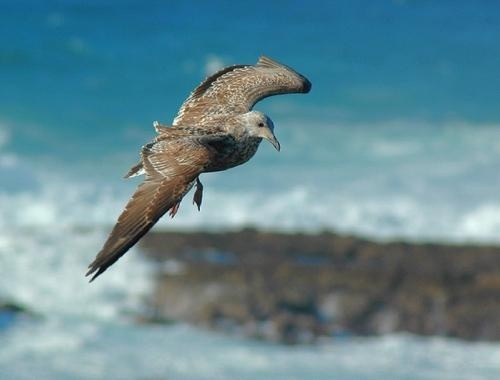bird: (84, 54, 313, 286)
